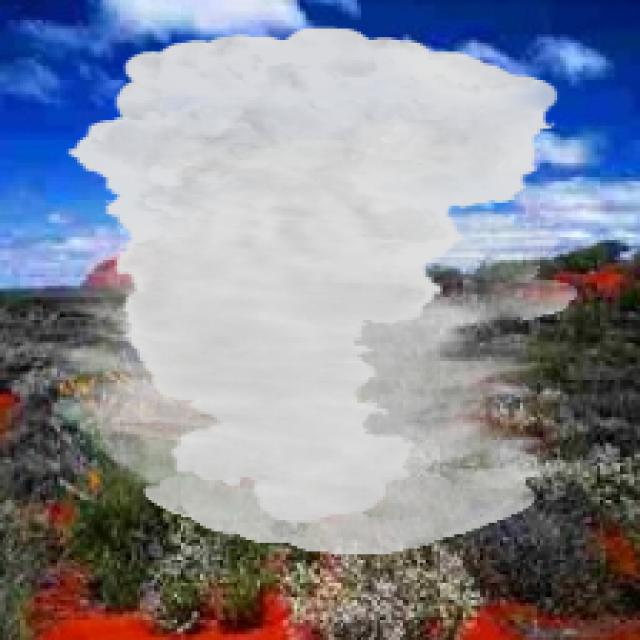smoke: (46, 26, 577, 554)
